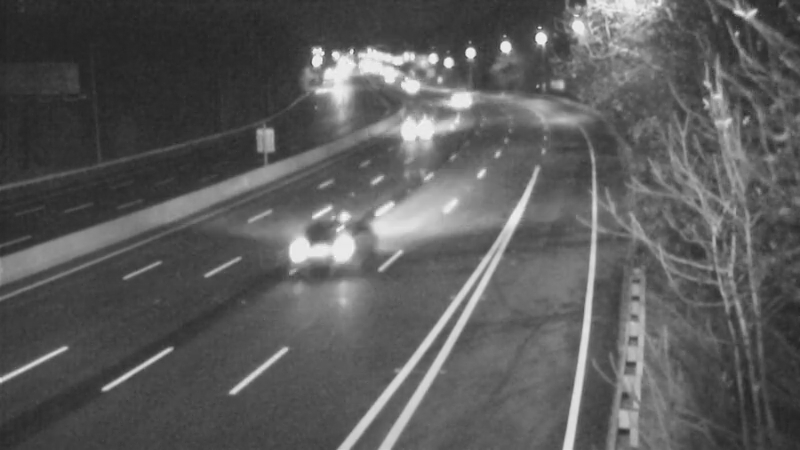vehicle: (278, 214, 358, 294), (384, 61, 434, 111), (430, 71, 480, 121), (388, 105, 438, 155)
